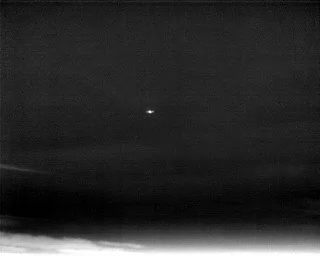AIRPLANE: (145, 107, 155, 116)
